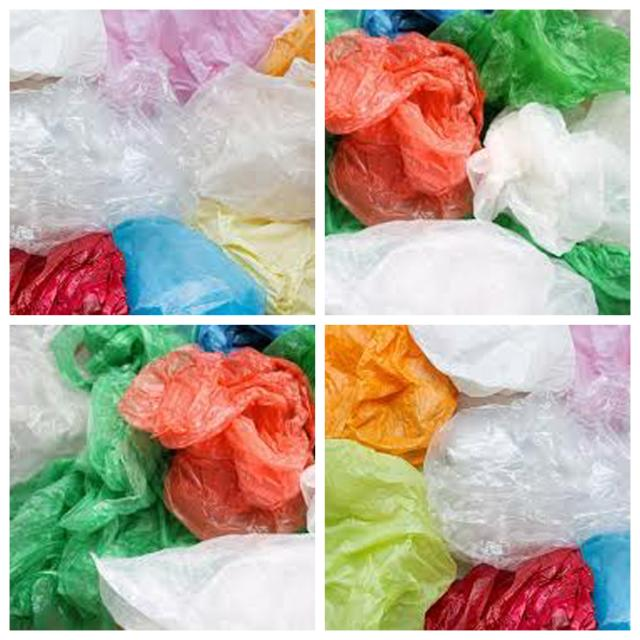Single-layer Plastic: (10, 326, 196, 629), (10, 11, 179, 252), (425, 379, 630, 568), (119, 348, 314, 538), (325, 32, 484, 225), (468, 92, 630, 255), (325, 220, 596, 315), (325, 439, 456, 630), (179, 61, 315, 221), (95, 534, 315, 630), (431, 10, 630, 115), (325, 325, 458, 466), (101, 10, 298, 102), (112, 218, 264, 315), (425, 549, 596, 630), (198, 199, 315, 314), (10, 325, 89, 484), (410, 325, 575, 398), (10, 232, 128, 315), (561, 240, 630, 315), (581, 533, 630, 630)
